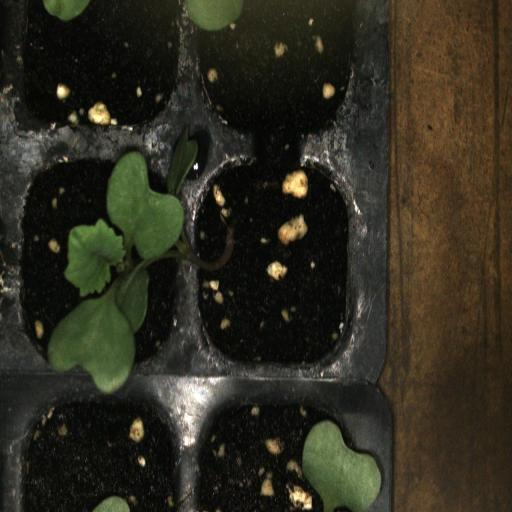askew: (170, 136, 368, 381)
seedling: (16, 139, 171, 392)
